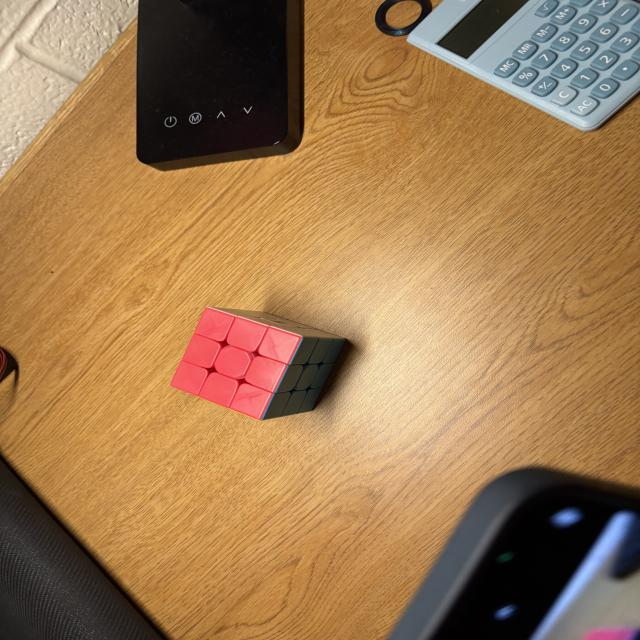Rubiks Cube: (169, 308, 346, 420)
